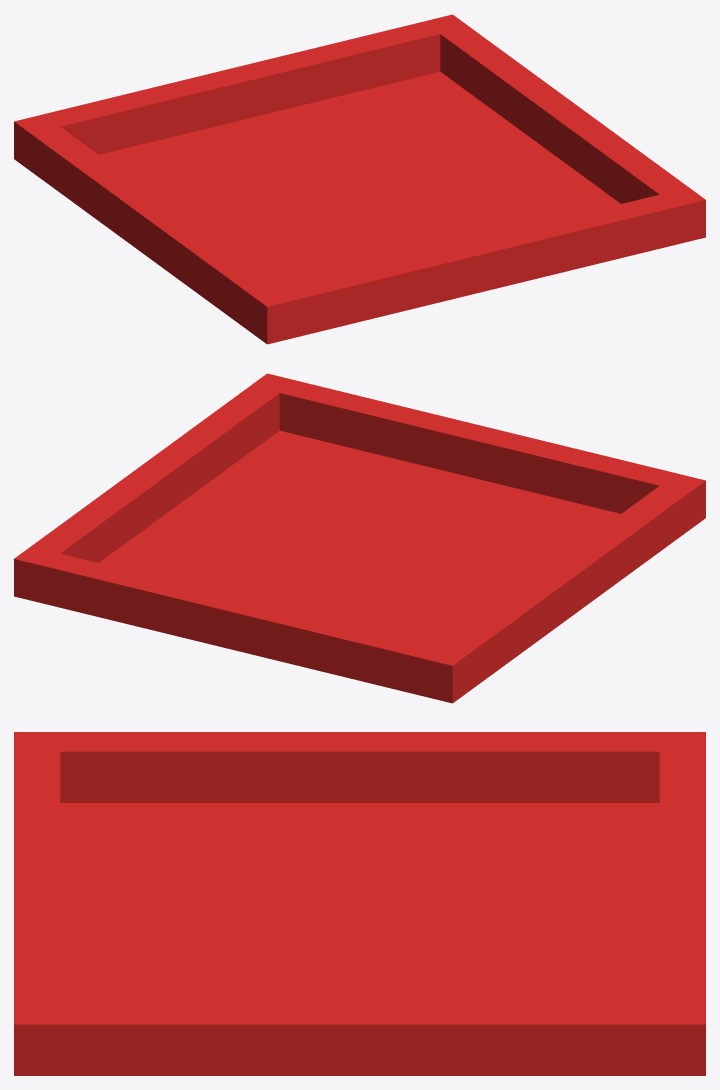
The model's file is Room3x3.glb.
The picture shows the model from 3 angles, top to bottom: view 1: azimuth 30°, elevation 25°; view 2: azimuth 150°, elevation 25°; view 3: azimuth 270°, elevation 25°; orthographic projection. The views are drawn at different scales.
Parts seen in each view (by area): view 1: Plane; view 2: Plane; view 3: Plane.
Boxes of the visible parts, x1=… form: Plane: x1=14, y1=14, x2=705, y2=344; Plane: x1=14, y1=373, x2=705, y2=703; Plane: x1=14, y1=732, x2=705, y2=1075.
Bounding box in the file's own units: 3 × 0.2458 × 3.
